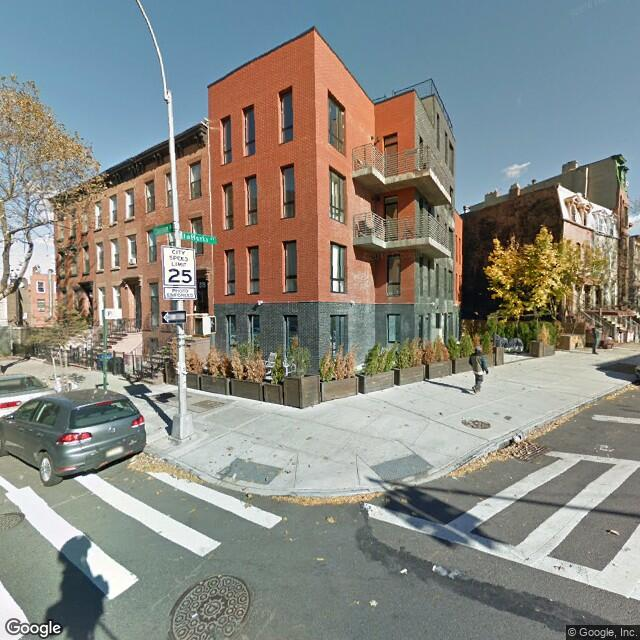litter: (124, 455, 204, 480), (478, 433, 548, 450), (604, 512, 626, 540)
